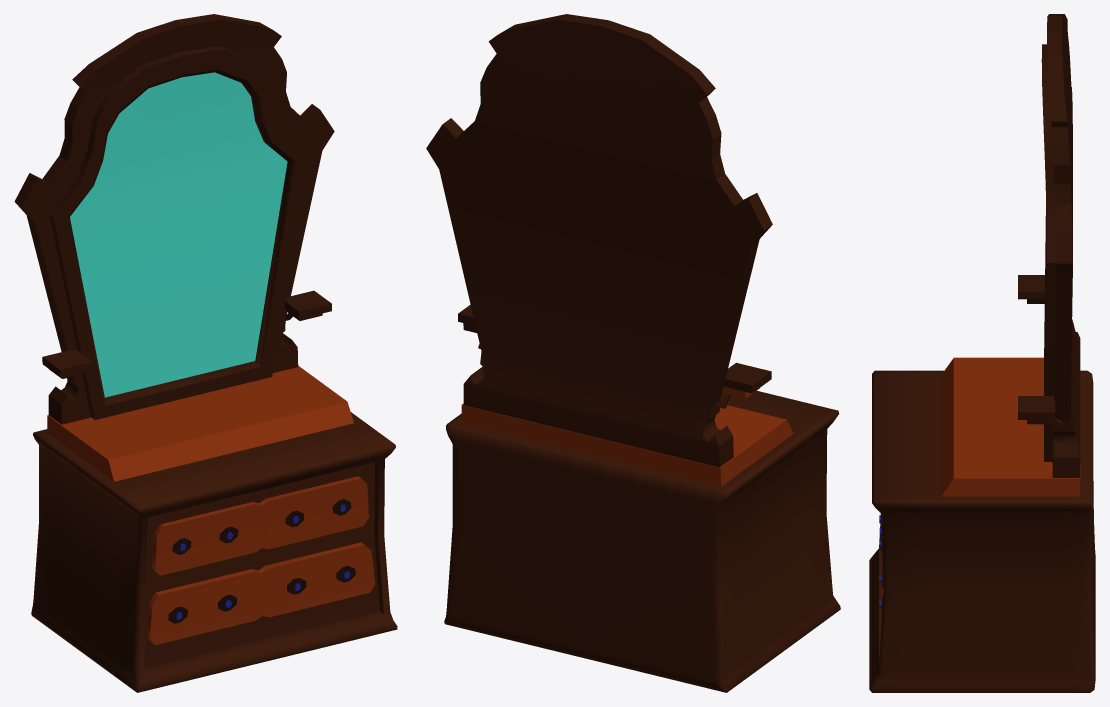
The model's file is dresser_v3.FBX.
3 renders of one model, left to right at view 1: azimuth 30°, elevation 25°; view 2: azimuth 150°, elevation 25°; view 3: azimuth 270°, elevation 25°, orthographic. The views are drawn at different scales.
Visible parts, largest first — view 1: dresser_01; view 2: dresser_01; view 3: dresser_01.
Part boxes in pixels (<box>): dresser_01: <box>14,14,397,692</box>; dresser_01: <box>426,14,840,692</box>; dresser_01: <box>869,14,1095,692</box>.
Bounding box in the file's own units: 49.41 × 86.83 × 29.89.
